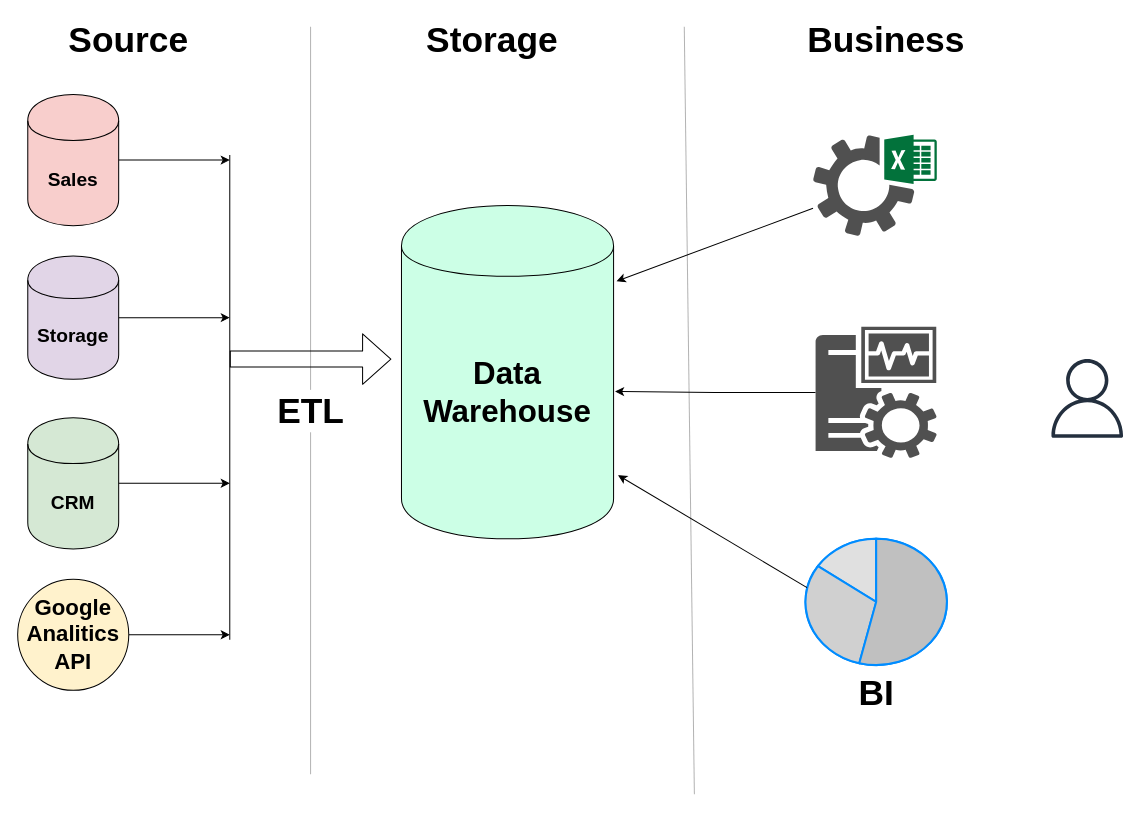
Image size: 1144x813. Some labels were removed from this diagram. Here are the shapes that lost their labels. From the top down, the centre of each, then its label:
At point (874, 184): "Excel".
At point (875, 392): "SQL".
At point (1086, 398): "User".
